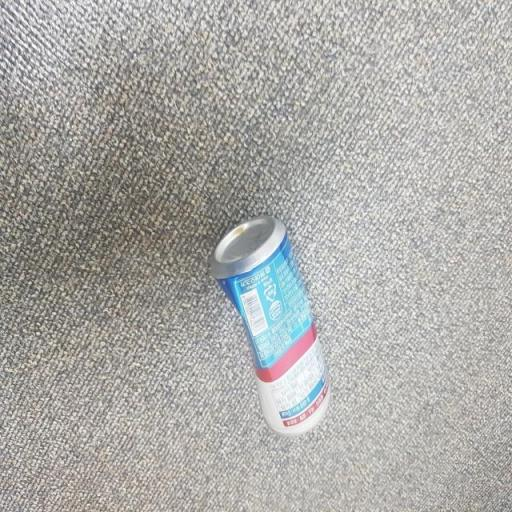metal: (204, 198, 344, 454)
